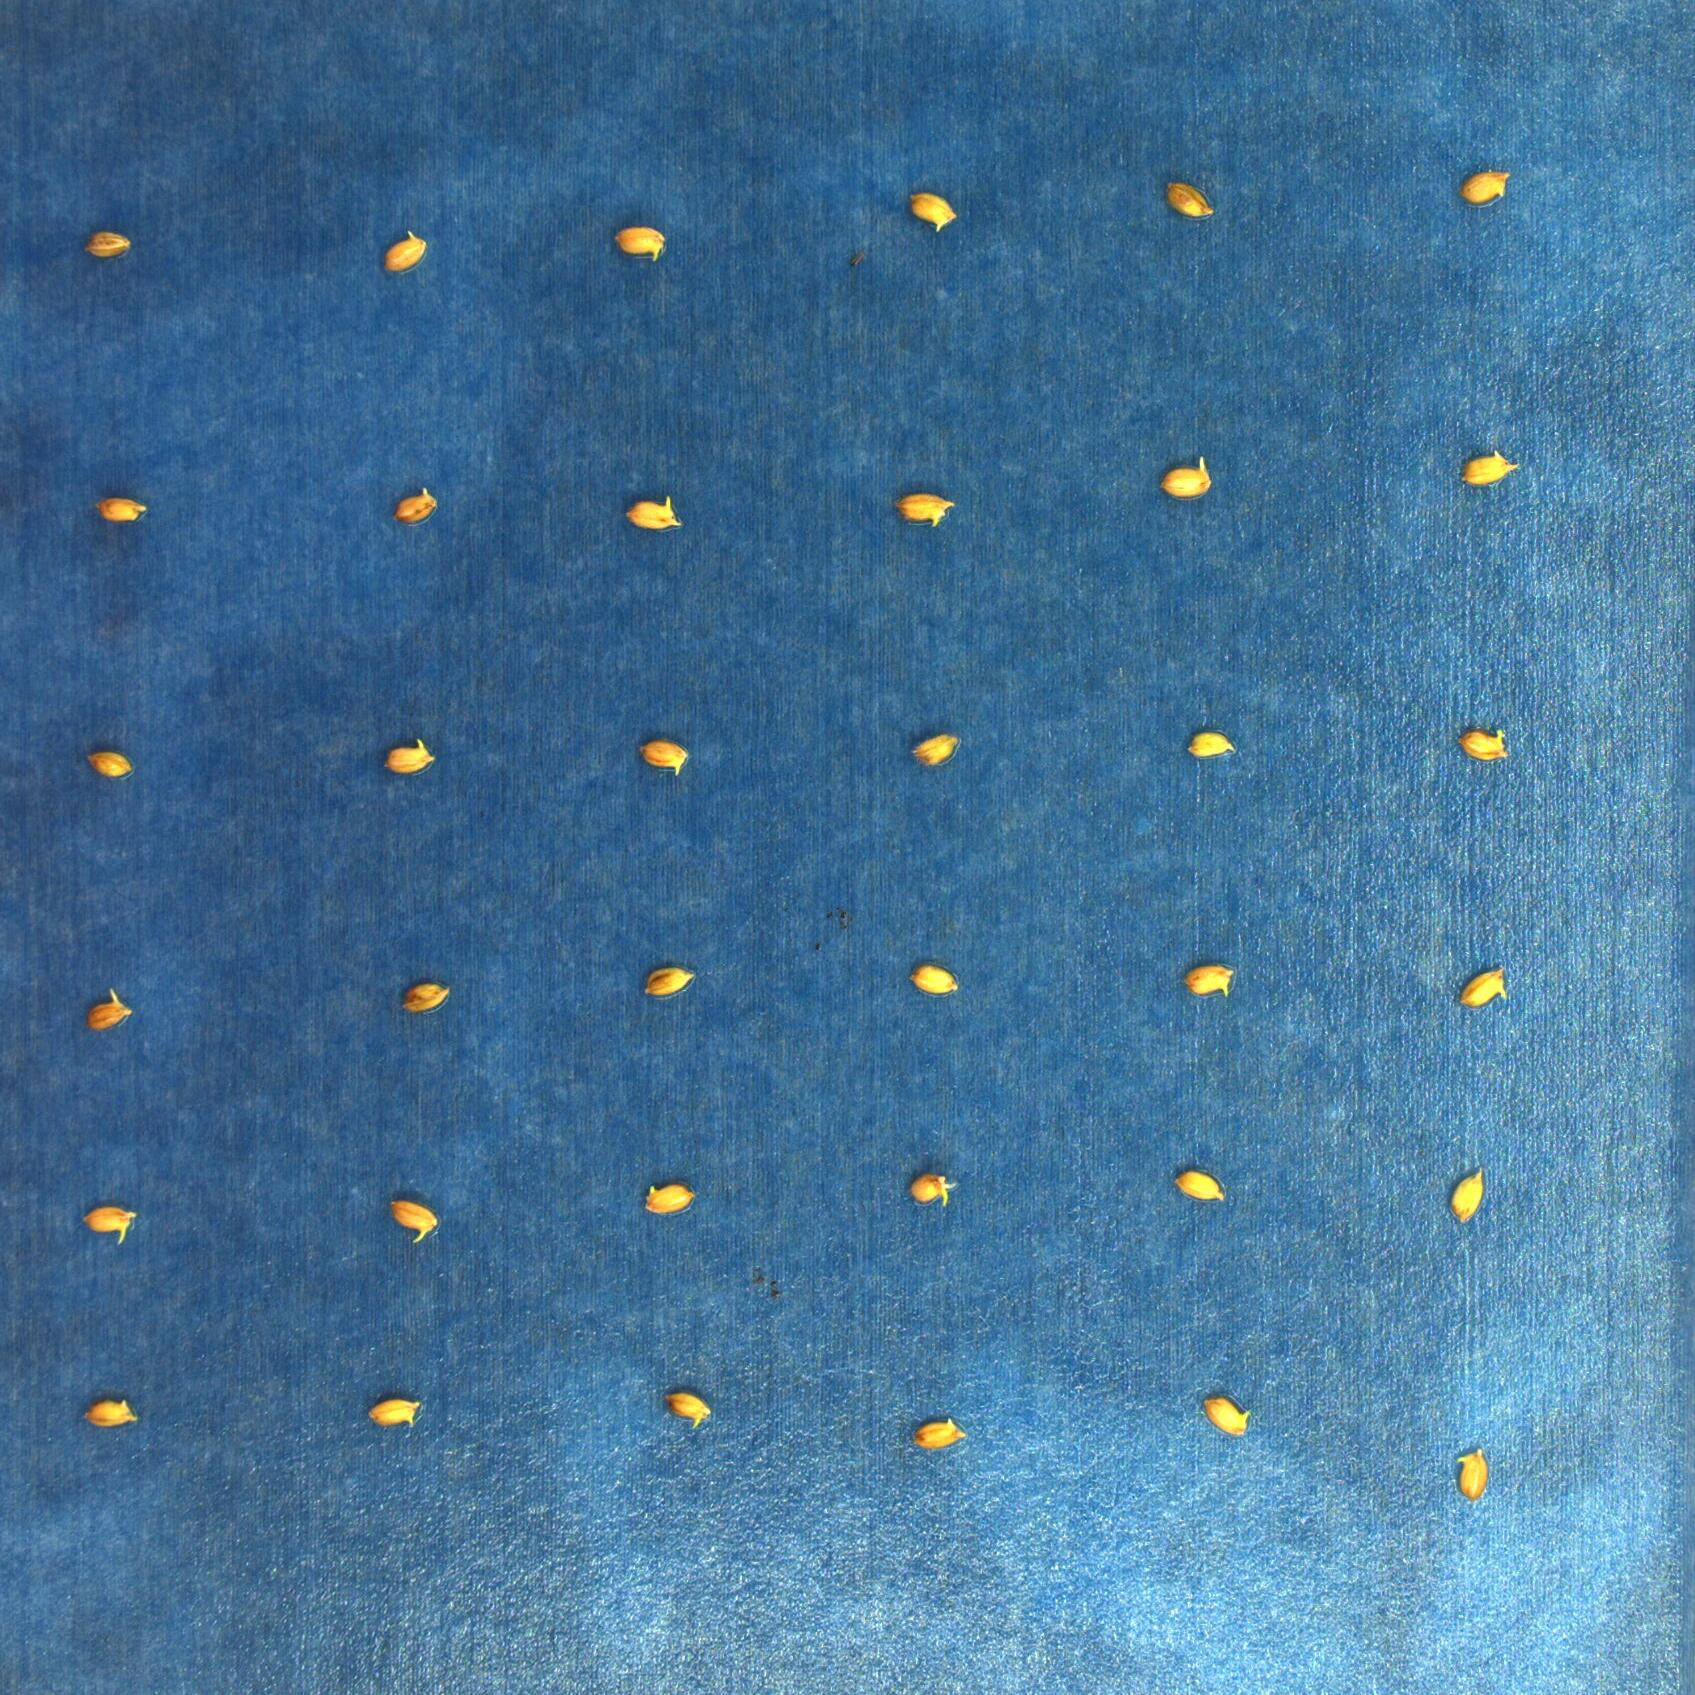not sprout: (379, 1194, 438, 1243), (1456, 161, 1513, 211), (81, 1201, 140, 1248), (1454, 445, 1523, 484), (896, 490, 958, 529), (1458, 962, 1512, 1004), (1161, 452, 1212, 495), (1163, 172, 1215, 214), (626, 492, 680, 532), (390, 481, 436, 528), (379, 225, 425, 270), (399, 976, 453, 1014), (908, 1419, 970, 1451), (1167, 1167, 1226, 1201), (615, 225, 664, 265), (644, 736, 694, 776), (382, 736, 438, 771), (664, 1388, 714, 1426), (1203, 1395, 1254, 1433), (641, 967, 698, 1000), (88, 989, 132, 1031), (1456, 1444, 1489, 1499), (905, 962, 959, 995), (1461, 723, 1512, 757), (1451, 1170, 1485, 1222), (911, 192, 958, 230), (82, 1395, 138, 1426), (366, 1395, 424, 1425), (911, 731, 962, 764), (913, 1170, 956, 1208), (1187, 969, 1236, 1000), (82, 227, 129, 258), (641, 1184, 694, 1211), (88, 495, 147, 518), (1186, 726, 1229, 757), (85, 747, 130, 776)
